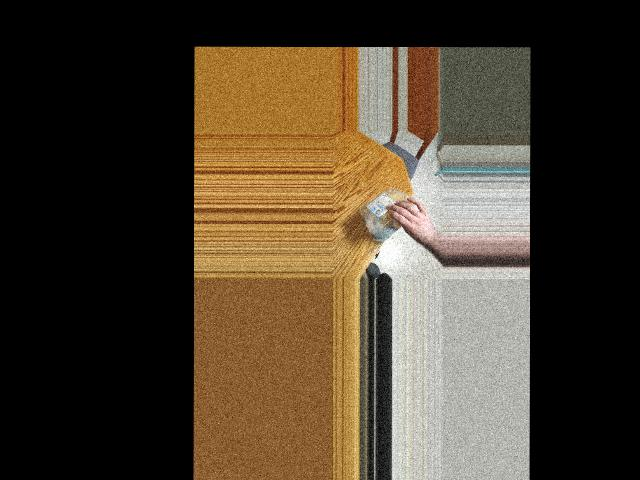cheese: (358, 186, 424, 239)
